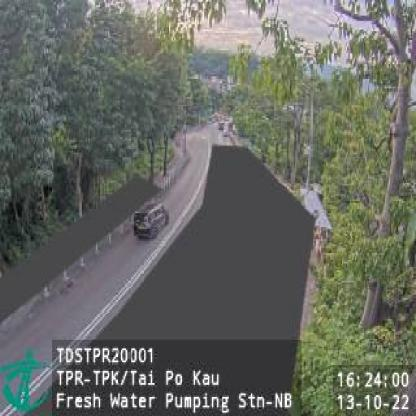Car: (133, 200, 169, 239)
